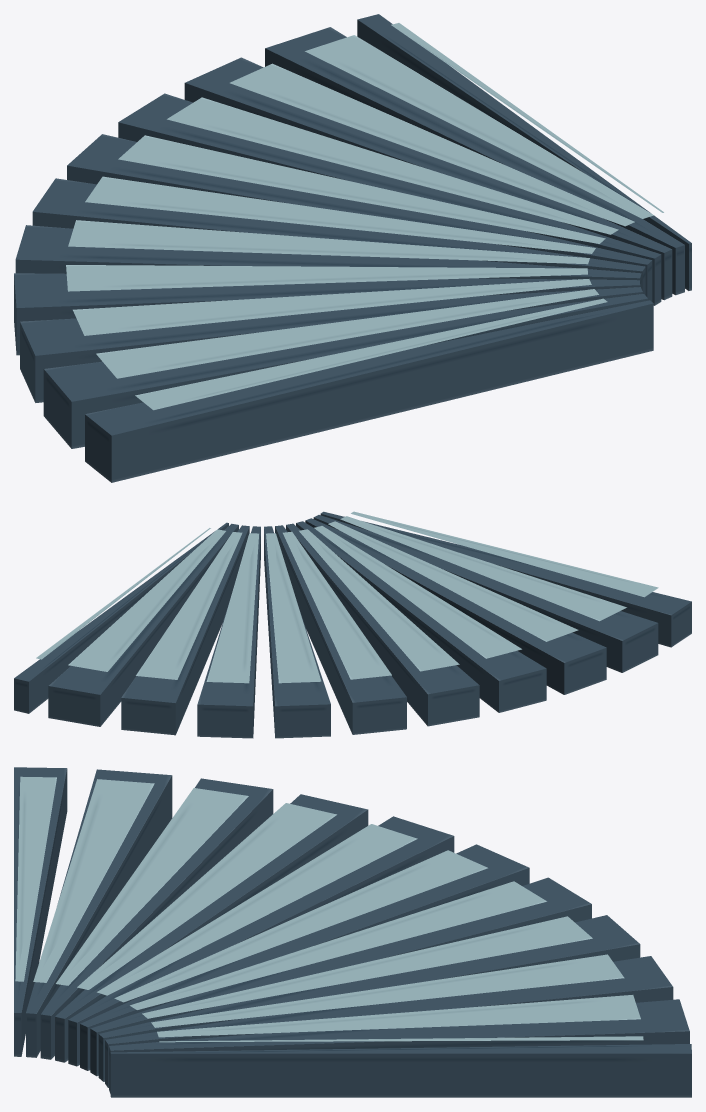
File: sc_tread_curve_right_12.obj
The picture shows the model from 3 angles, top to bottom: view 1: azimuth 30°, elevation 25°; view 2: azimuth 150°, elevation 25°; view 3: azimuth 270°, elevation 25°; orthographic projection. The views are drawn at different scales.
Bounding box in the file's own units: 17.5 × 1.56 × 17.5.
1 material, 1 textured.
